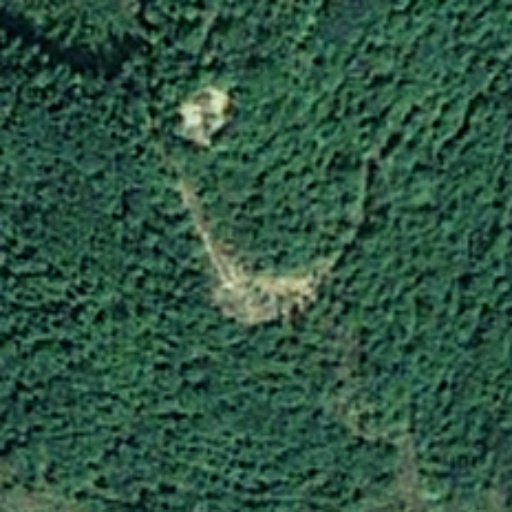landslide: (208, 243, 331, 327), (175, 80, 232, 136)
